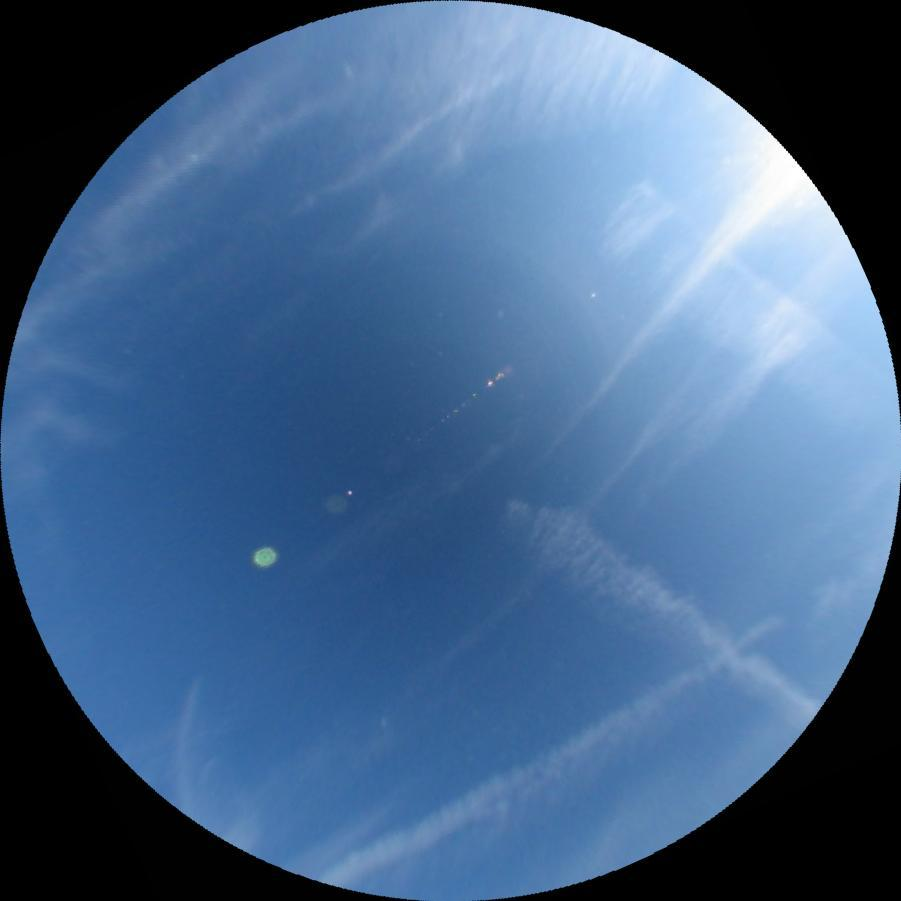contrail veryold: (487, 470, 830, 747)
